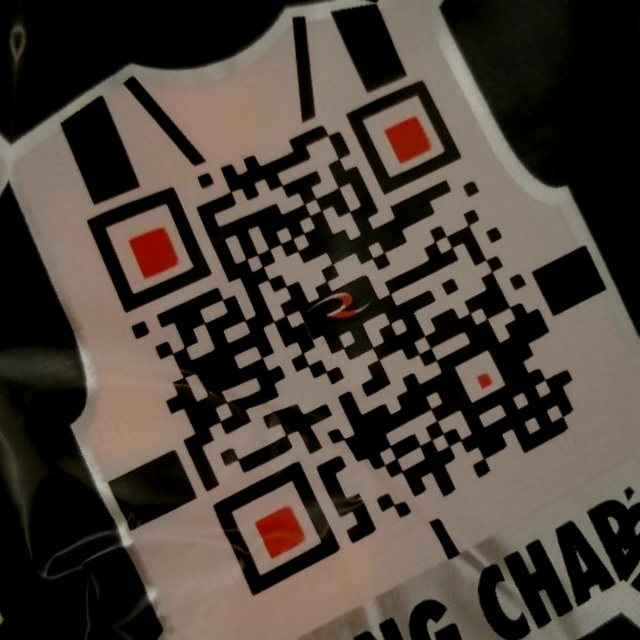qr-code: (47, 49, 602, 625)
